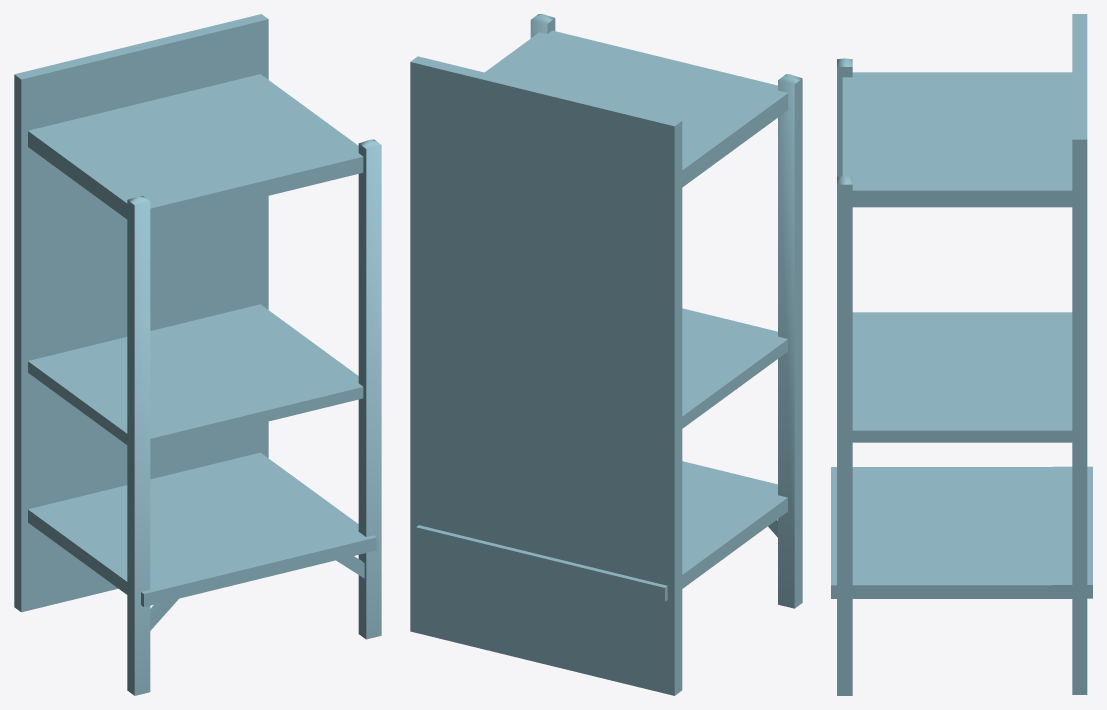
The model's file is lo_Prop_SmallTable_A.fbx.
3 renders of one model, left to right at view 1: azimuth 30°, elevation 25°; view 2: azimuth 150°, elevation 25°; view 3: azimuth 270°, elevation 25°, orthographic. The views are drawn at different scales.
Visible parts, largest first — view 1: lo_Prop_SmallTable_A_LOD0; view 2: lo_Prop_SmallTable_A_LOD0; view 3: lo_Prop_SmallTable_A_LOD0.
Boxes of the visible parts, x1,y1,x2,y2 form: lo_Prop_SmallTable_A_LOD0: [14, 14, 381, 695]; lo_Prop_SmallTable_A_LOD0: [410, 14, 802, 695]; lo_Prop_SmallTable_A_LOD0: [831, 14, 1092, 695].
Size of what is drawn, in the model's own units: 0.5882 by 1.21 by 0.5175.
